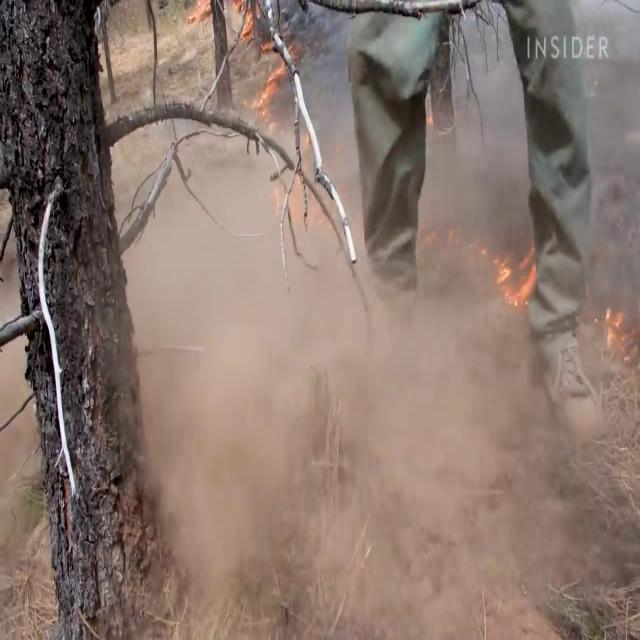Fire: (488, 234, 538, 308)
Smoke: (97, 89, 580, 612)
